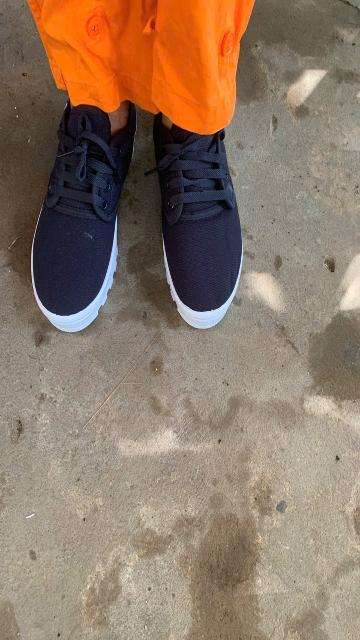shoes: (0, 80, 165, 343), (143, 120, 268, 342)
